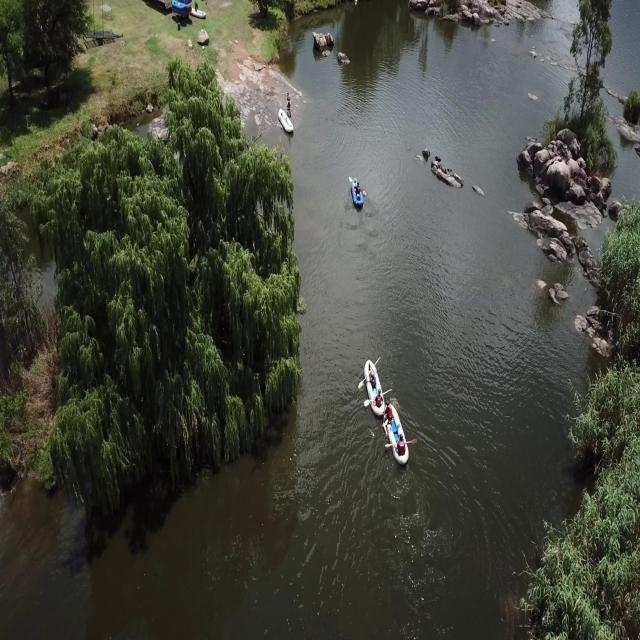kayak: (382, 401, 410, 467), (358, 356, 388, 414), (348, 176, 366, 212)
